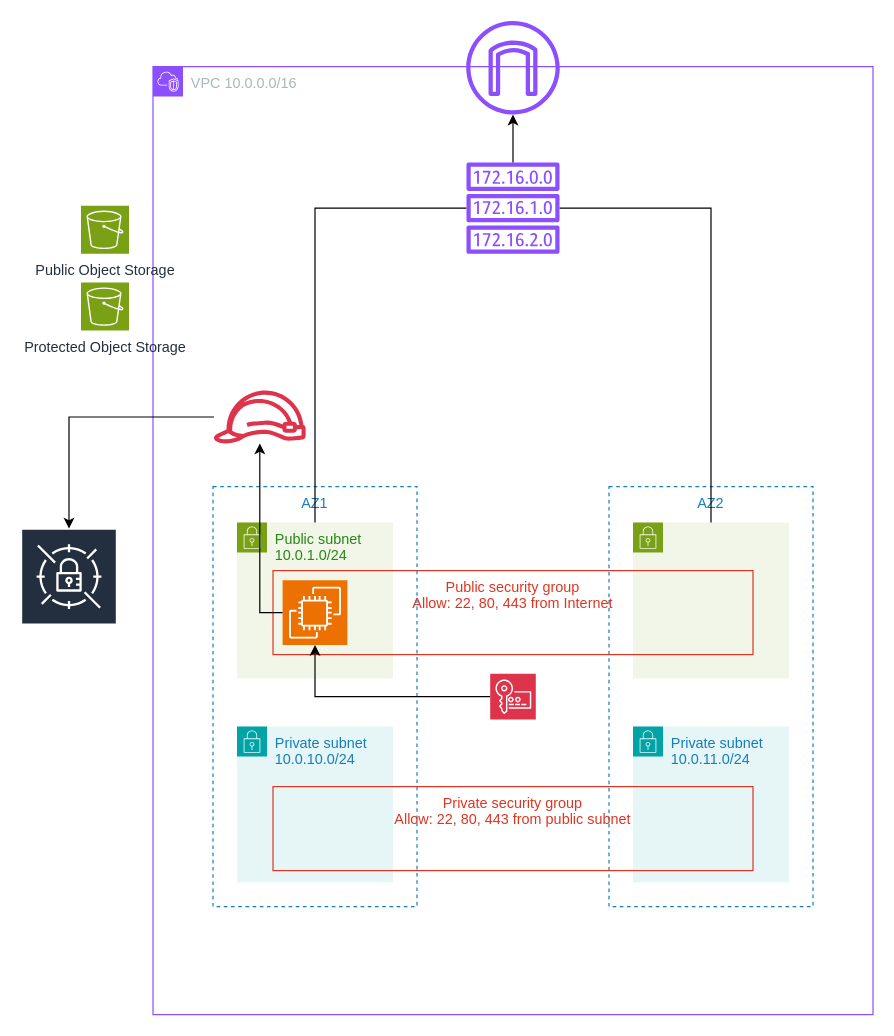
Some shapes in this 894 by 1036 pixel diagram are drawn without their labels. The shapes that lost their labels are listed below. From the top down, each one's centre as x and y in pixels, then its label:
At point (512, 207): "Public route table".
At point (68, 594): "AWS Secrets Manager".
At point (314, 612): "Public IP auto-assigned".
At point (710, 600): "Public subnet 10.0.2.0/24".
